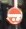No entry: (5, 6, 21, 24)
